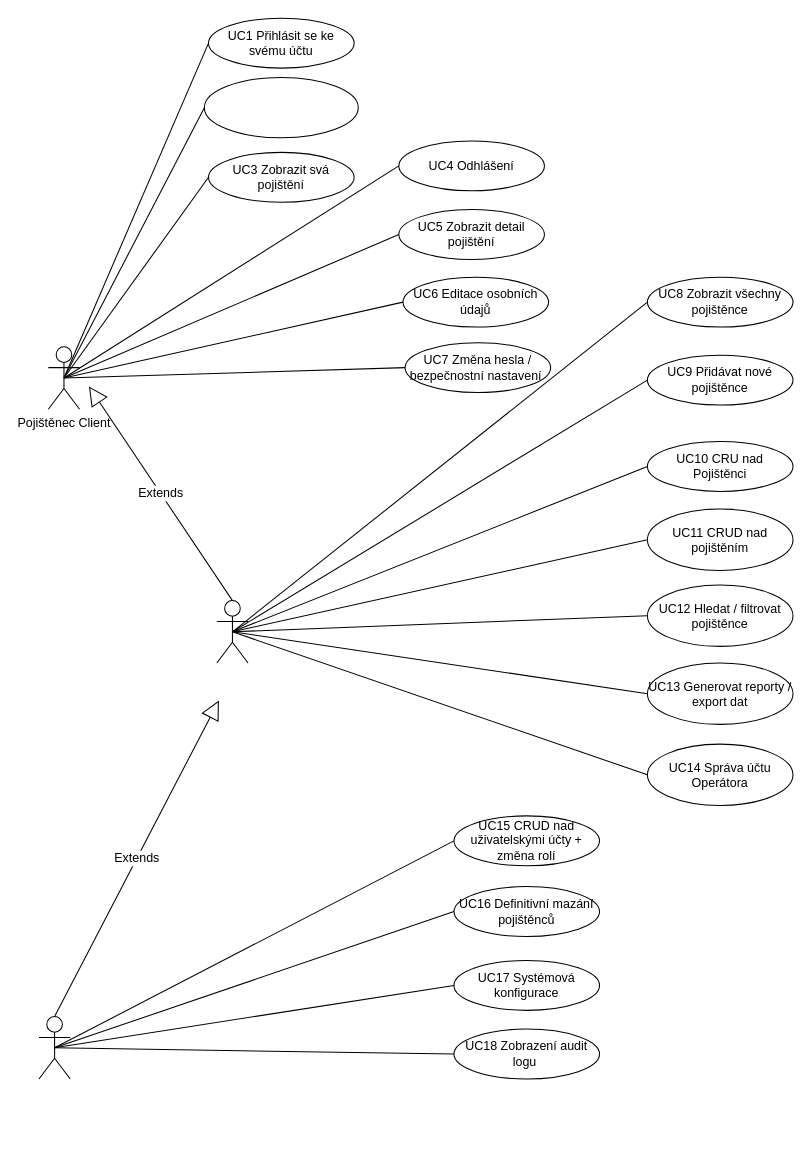
This 811x1149 diagram has some shape labels left out. Here are the shapes that lost their labels. From the top down, the centre of each, then its label:
At pixel 280 107: "UC2 Zobrazit pouze své údaje".
At pixel 232 631: "Operátor Agent".
At pixel 54 1047: "Administrátor".
